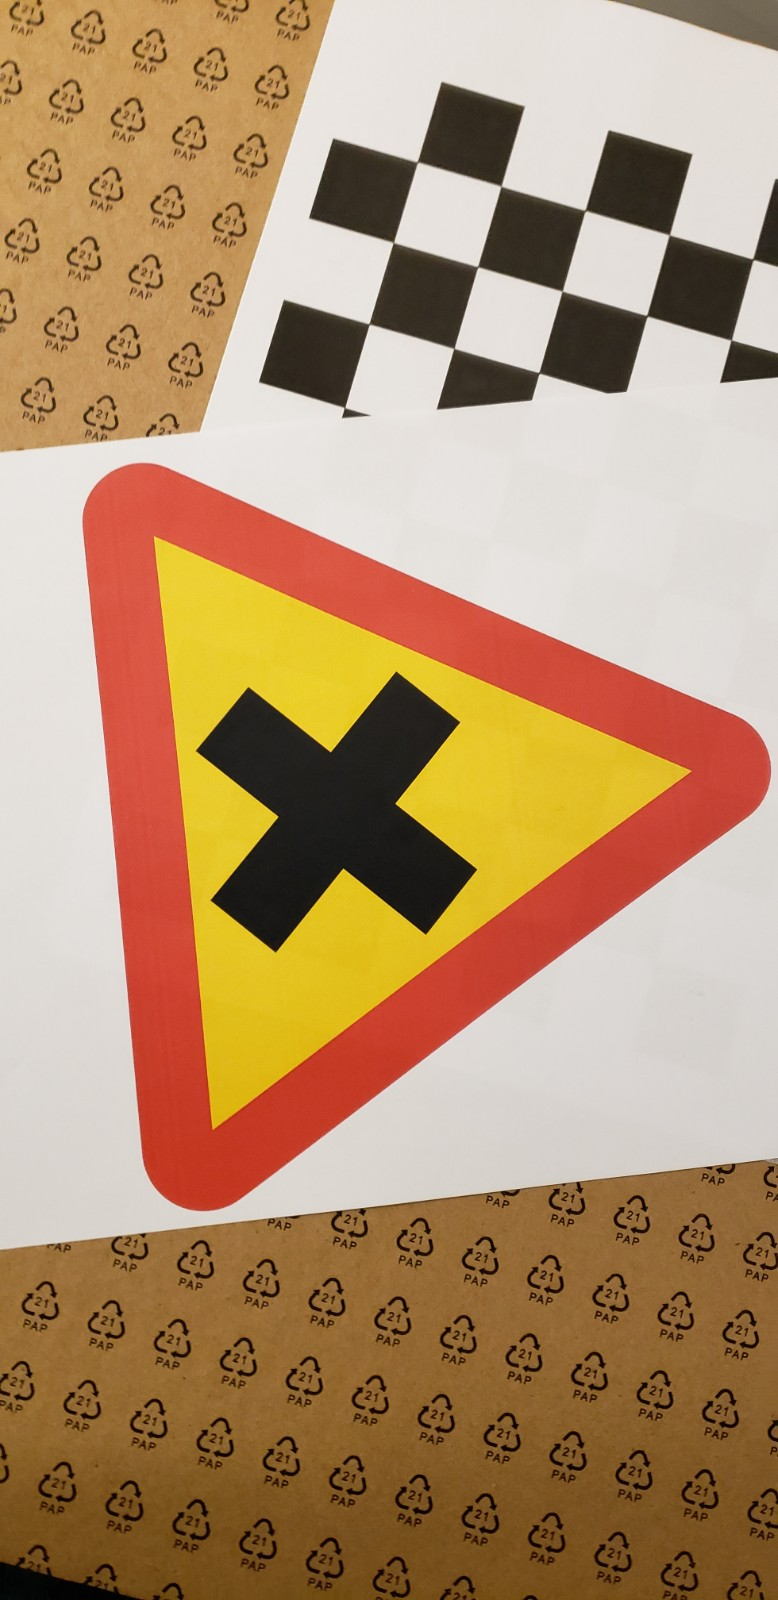junction: (64, 448, 776, 1249)
